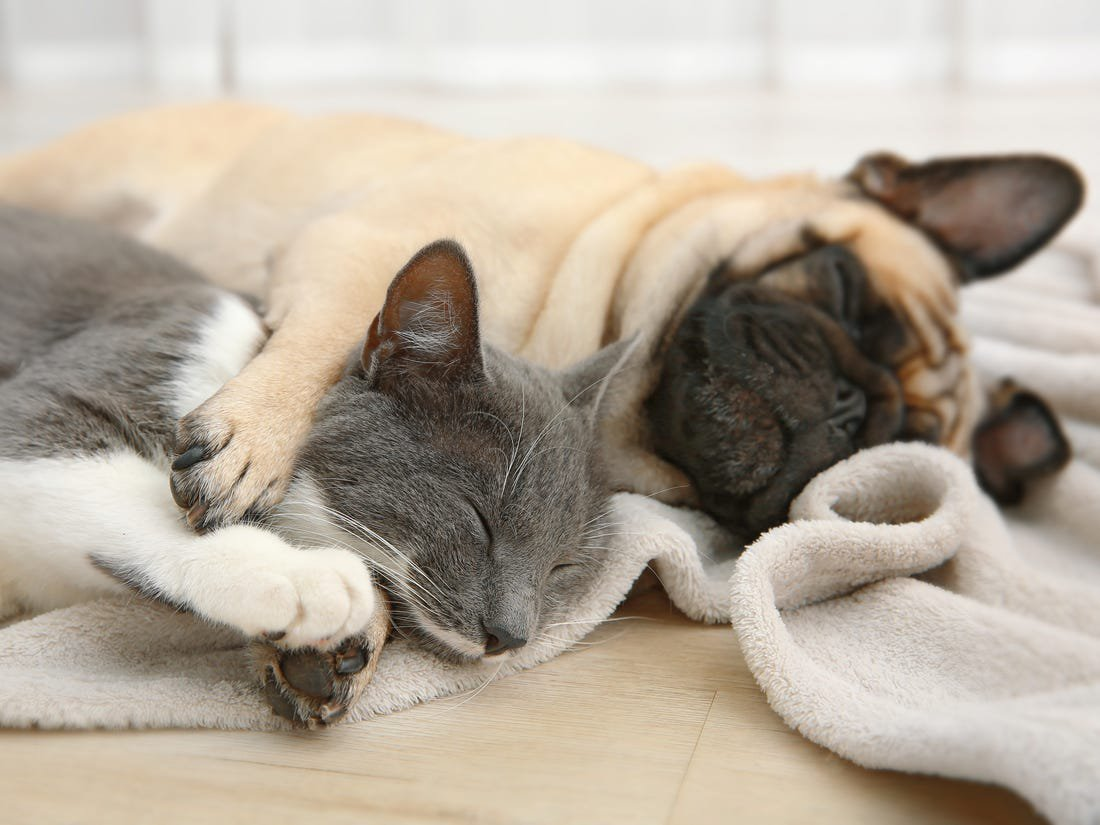cat: (8, 205, 635, 713)
dog: (1, 85, 1079, 541)
